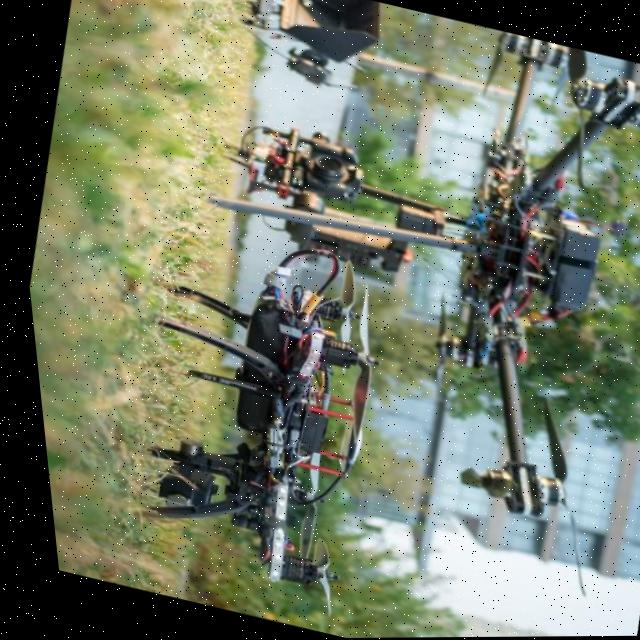drones: (327, 21, 640, 621), (76, 209, 424, 628)
